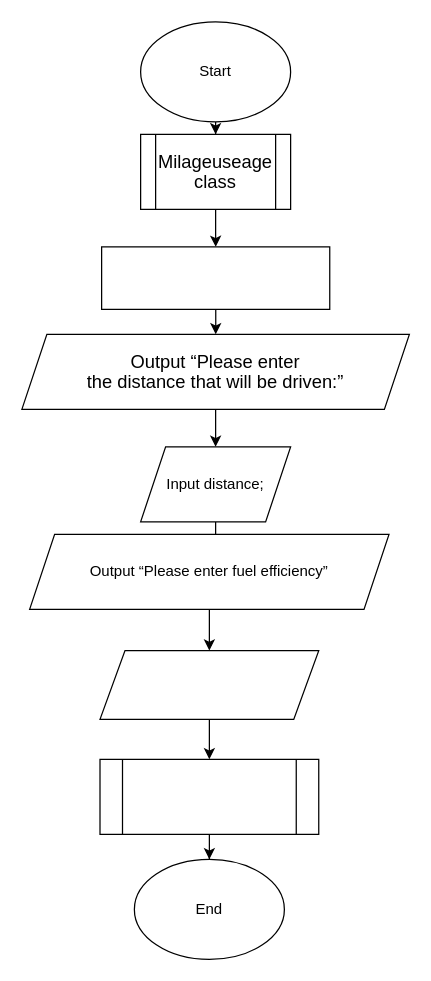
This 431x981 diagram has some shape labels left out. Here are the shapes that lost their labels. From the top down, the centre of each, then its label:
At point 215,277: "Declare double distance, fuelefficiency".
At point 209,684: "Input fuelefficiency;".
At point 209,796: "Milageuseage class to calculate gas needed for trip".
